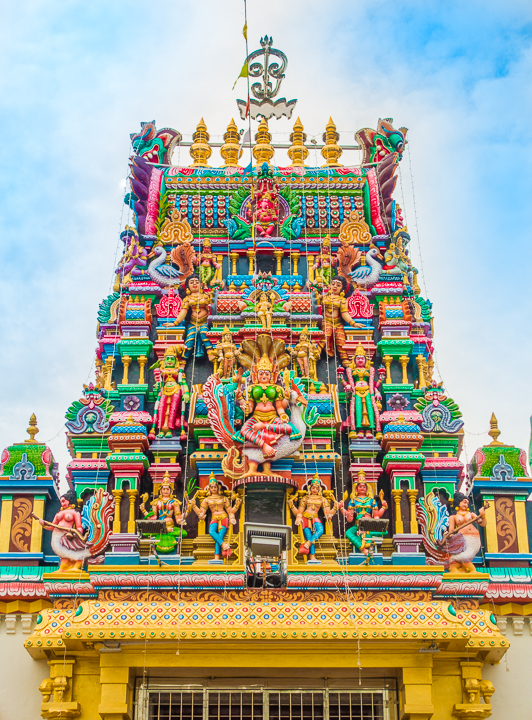Hindu Temple: (5, 35, 532, 587)
